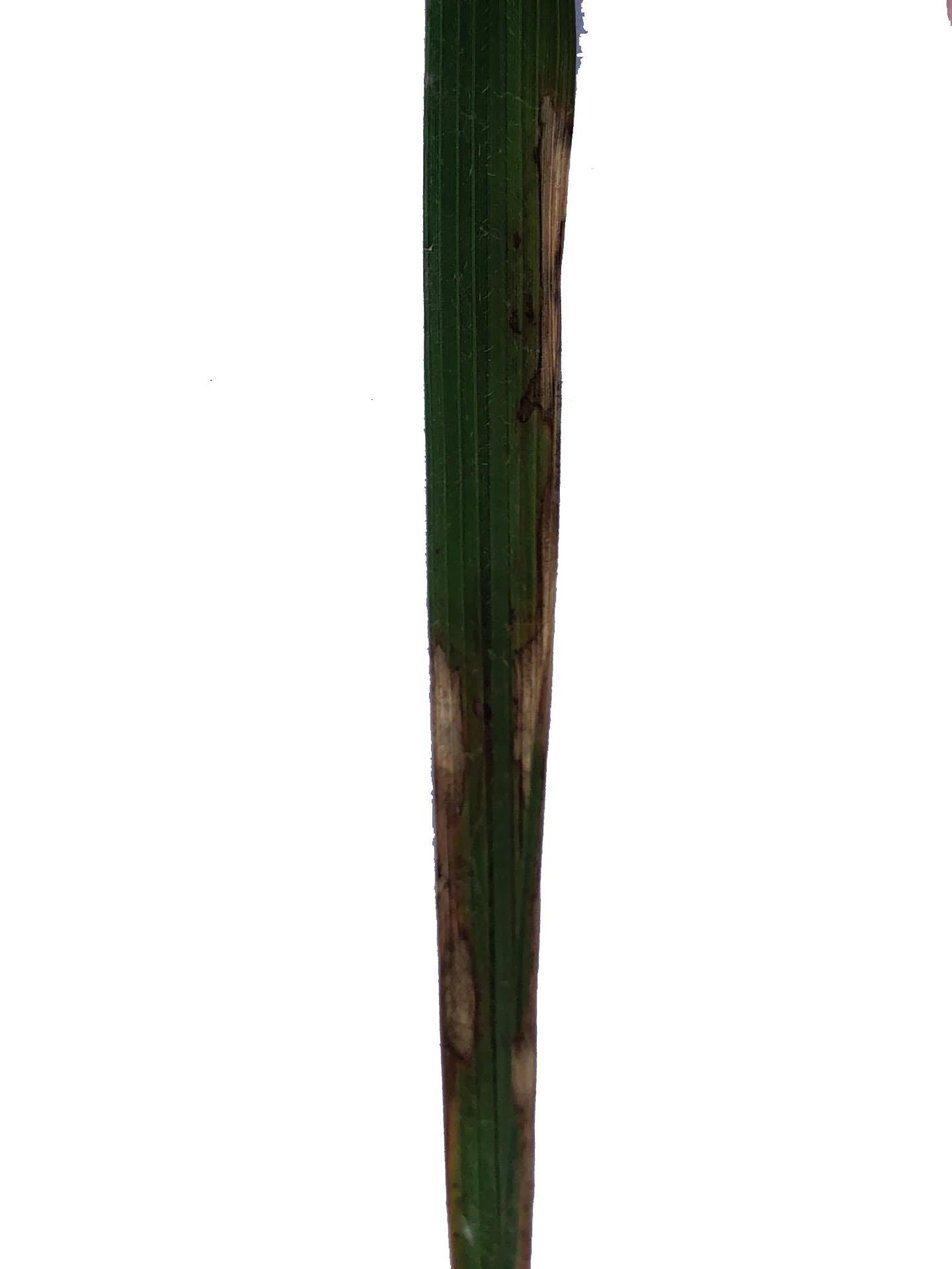Blight: (522, 79, 569, 466), (433, 631, 469, 1091), (502, 486, 549, 829), (509, 958, 539, 1239)
